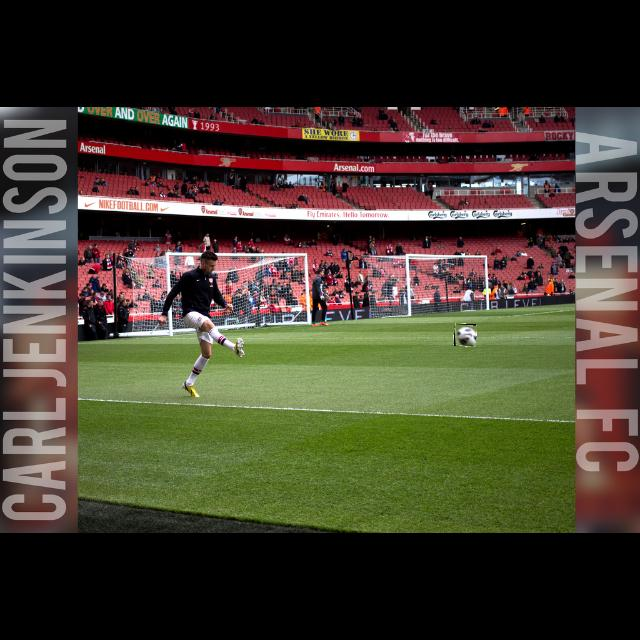Football: (454, 324, 476, 346)
